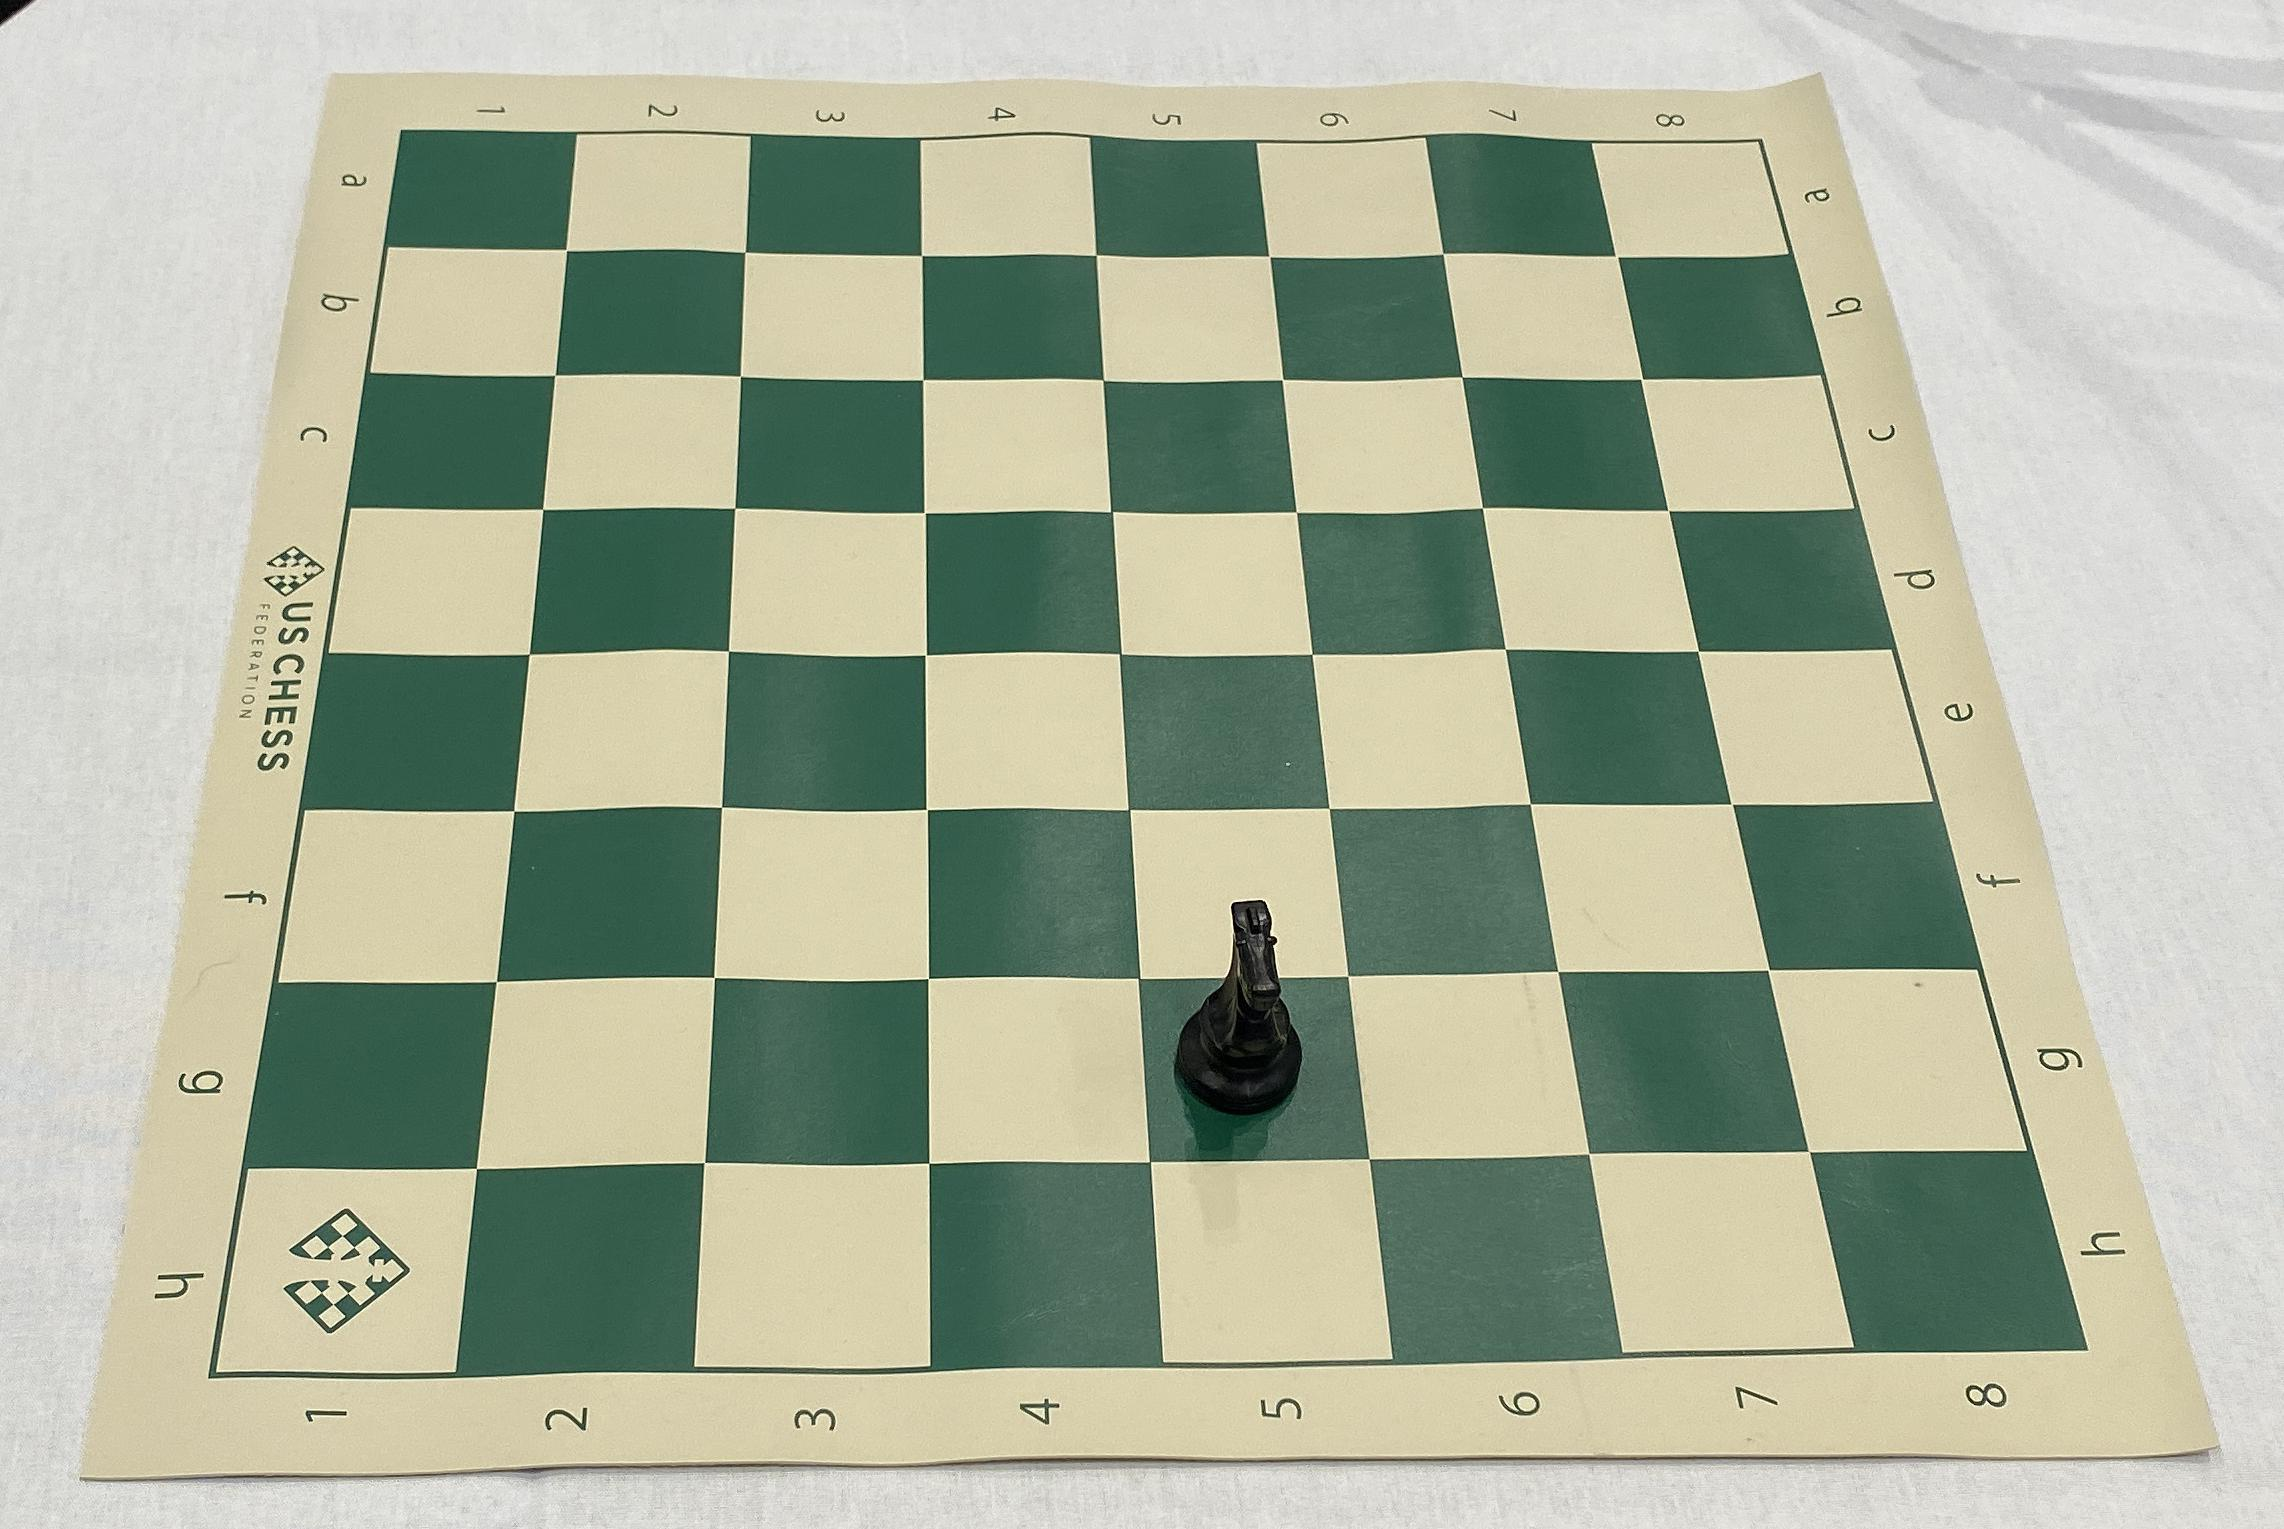black-knight: (1172, 903, 1307, 1119)
